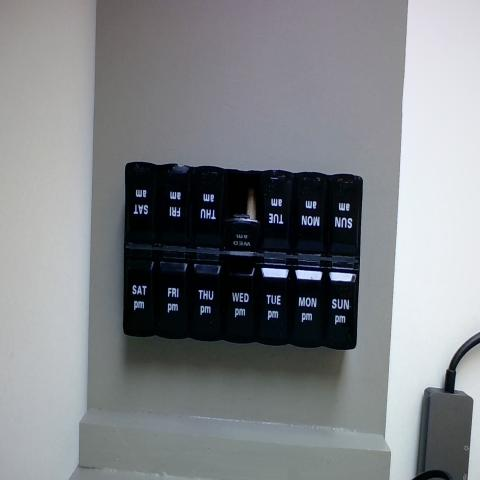FRI-am: (159, 166, 189, 248)
FRI-pm: (157, 253, 188, 337)
MON-am: (296, 173, 325, 257)
MON-pm: (292, 268, 326, 346)
Open: (227, 170, 258, 218)
PillBox: (107, 138, 381, 373)
SAT-am: (128, 167, 158, 253)
SAT-pm: (126, 253, 155, 333)
SUN-am: (328, 177, 360, 260)
SUN-pm: (329, 271, 357, 350)
THU-am: (191, 166, 224, 250)
THU-pm: (190, 256, 220, 338)
TUE-am: (262, 171, 293, 256)
TUE-pm: (260, 265, 289, 346)
WED-pm: (222, 257, 258, 342)
